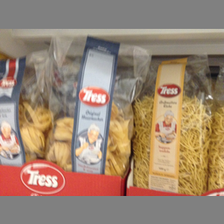pasta: (48, 35, 148, 172), (131, 55, 213, 193)
